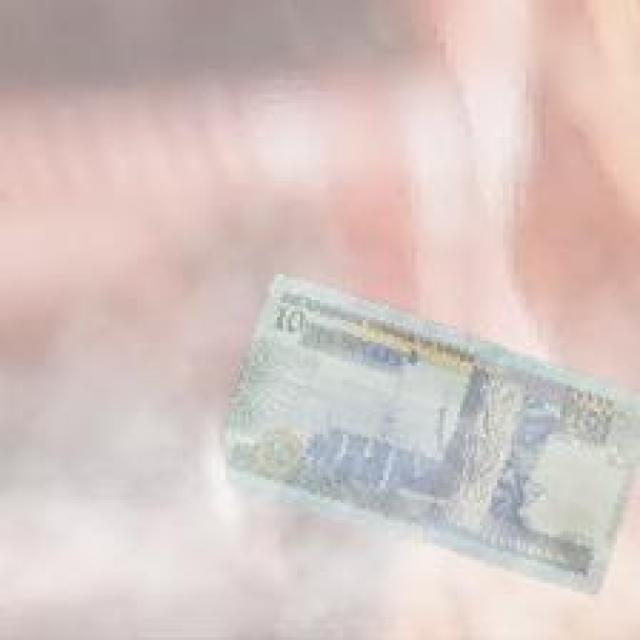10-dinar: (220, 276, 637, 598)
